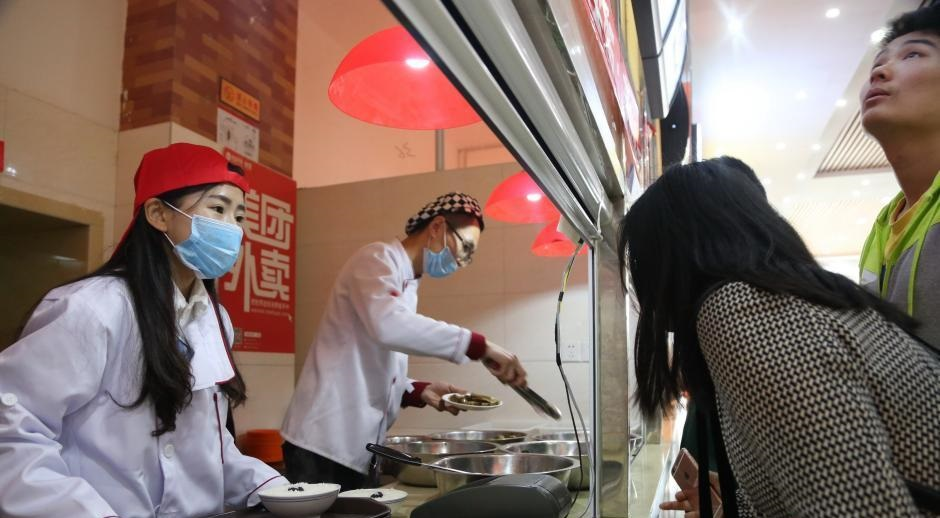face_mask: (859, 26, 939, 123), (168, 185, 244, 277), (421, 225, 474, 278)
